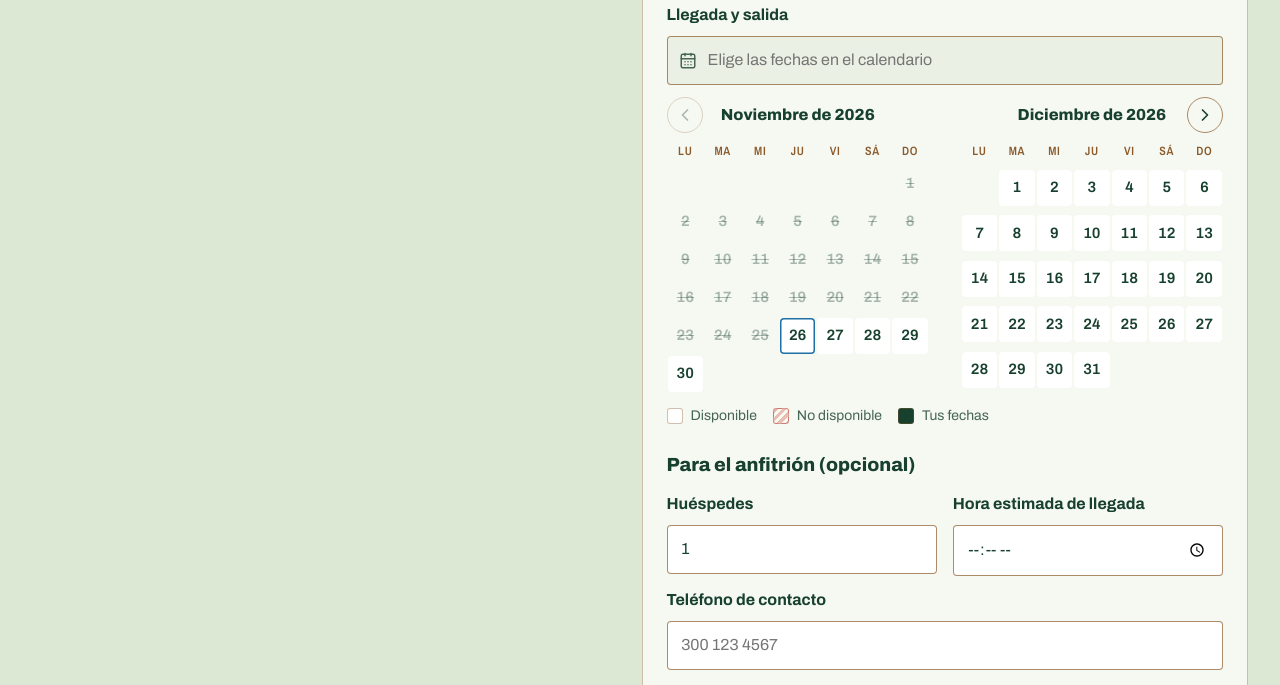
Test case: Booking page and reservation (#31, #32) › explains a conflict and how to fix it
(page scrolled)
Click the 1st button "28". click: coordinates (873, 336)
box: [855,318,890,354]
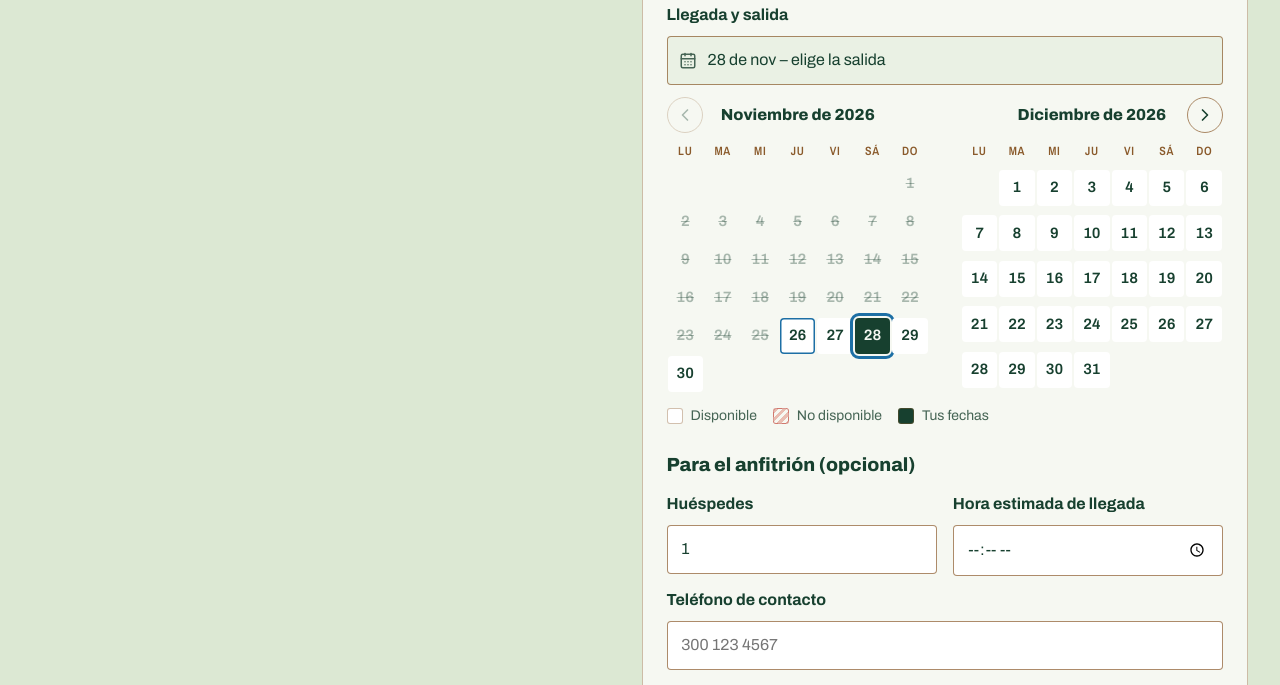
Click the 1st button "30". click: coordinates (685, 374)
box: [668,356,703,392]
(page scrolled)
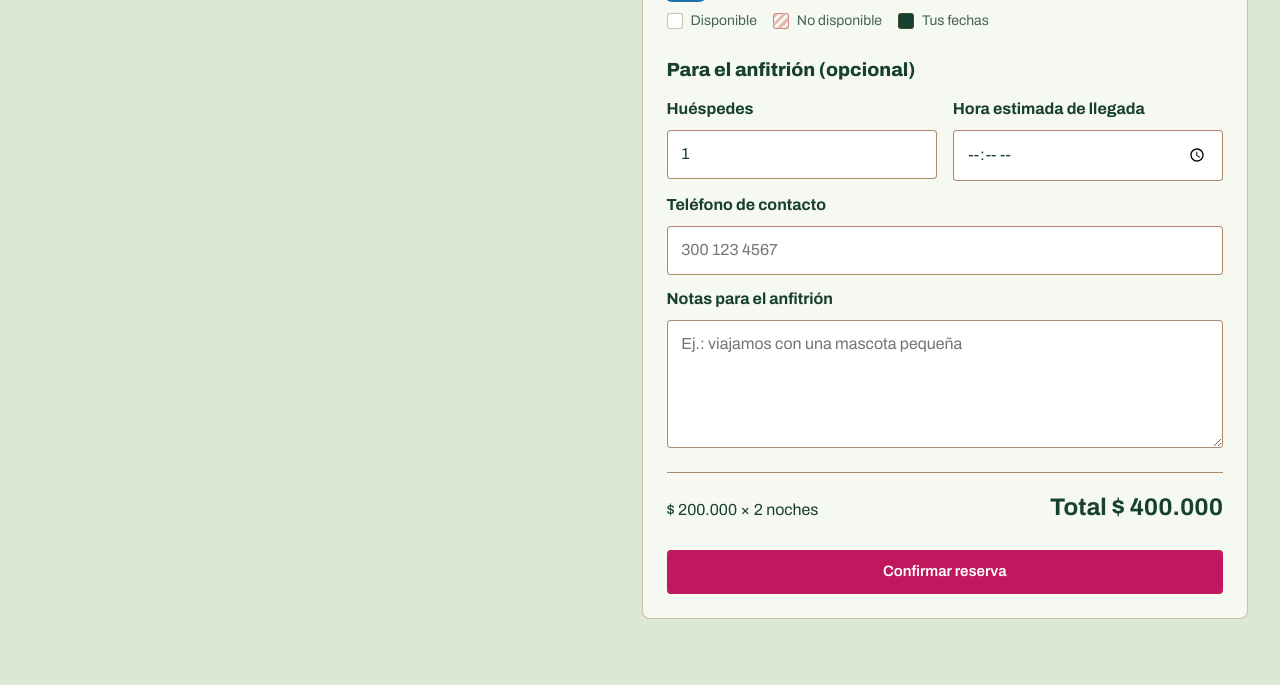
Click the button "Confirmar reserva". click: coordinates (945, 572)
box: [666,550,1223,594]
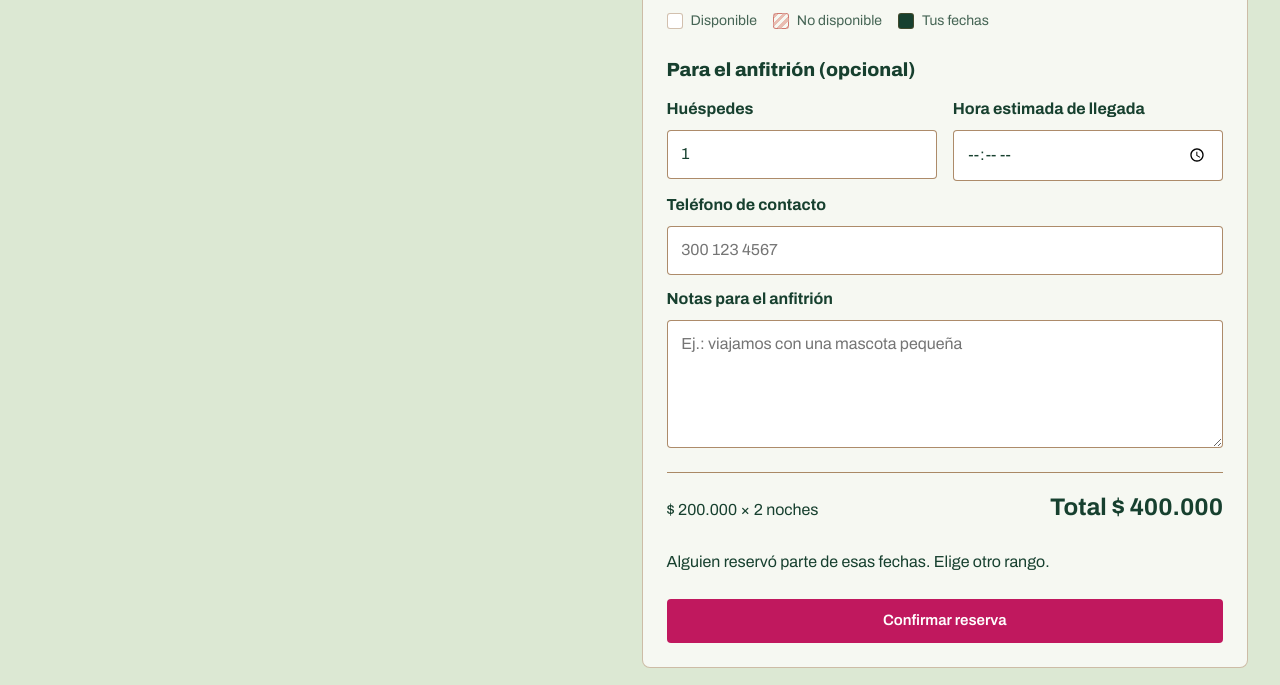
Now the text "Alguien reservó parte de esas fechas. Elige otro rango." is shown, box [666,553,1050,570]
